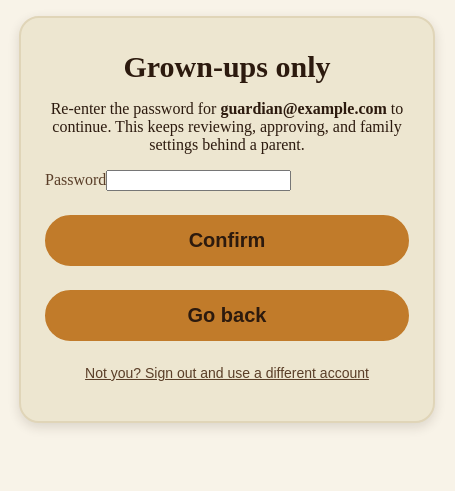
Scenario: AdultGate › shows an inline wrong-password error and stays locked
Expected: the heading "Grown-ups only" is shown, [124,50,330,83]
Type "wrong" into the password field labelled "Password". click: (199, 180)
box: [106,170,291,191]
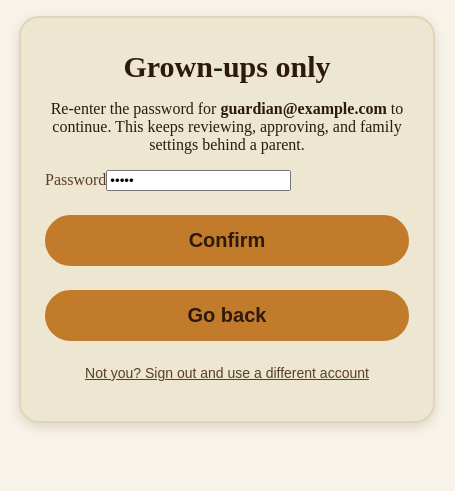
Click the button "Confirm". click: (227, 240)
box: [45,215,409,266]
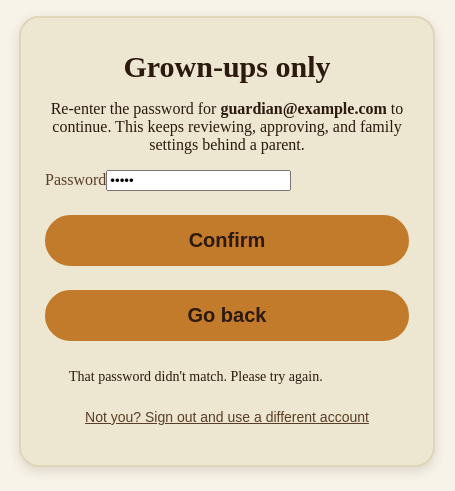
Now the message "That password didn't match. Please try again." is shown, box [69,369,323,384]
